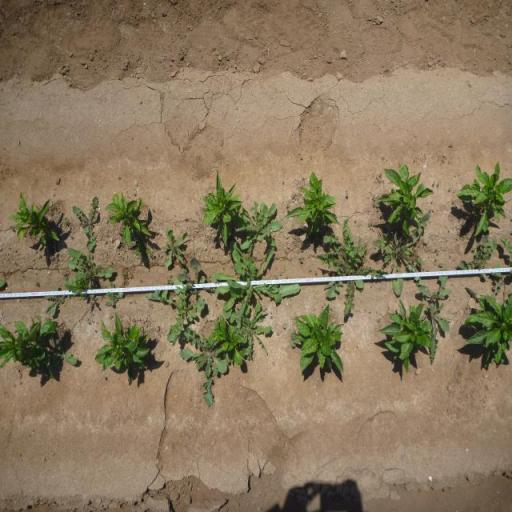plant: (92, 311, 152, 388), (376, 161, 437, 232), (293, 302, 348, 380), (456, 160, 512, 236), (379, 297, 432, 373), (0, 316, 59, 382), (286, 169, 339, 242), (463, 293, 512, 363), (201, 169, 244, 247), (9, 190, 61, 251), (105, 191, 152, 247), (208, 312, 246, 366)
weed: (316, 218, 389, 316), (211, 239, 304, 313), (372, 212, 432, 298), (144, 279, 207, 346), (178, 326, 228, 408), (417, 265, 454, 365), (222, 297, 273, 361), (62, 247, 116, 304), (235, 198, 283, 256), (457, 234, 501, 279), (175, 255, 216, 298), (72, 194, 102, 251), (160, 226, 189, 268), (51, 338, 79, 368), (104, 279, 125, 309), (45, 286, 65, 315), (133, 235, 156, 260), (118, 270, 130, 288), (86, 252, 94, 266), (61, 269, 68, 280), (62, 216, 70, 225), (166, 276, 173, 286), (372, 202, 380, 208), (35, 281, 41, 288), (129, 273, 134, 280), (368, 220, 372, 227), (184, 216, 188, 222), (300, 258, 304, 264), (282, 324, 286, 330), (345, 192, 349, 198), (438, 262, 442, 268), (275, 274, 278, 279), (314, 270, 317, 274)
